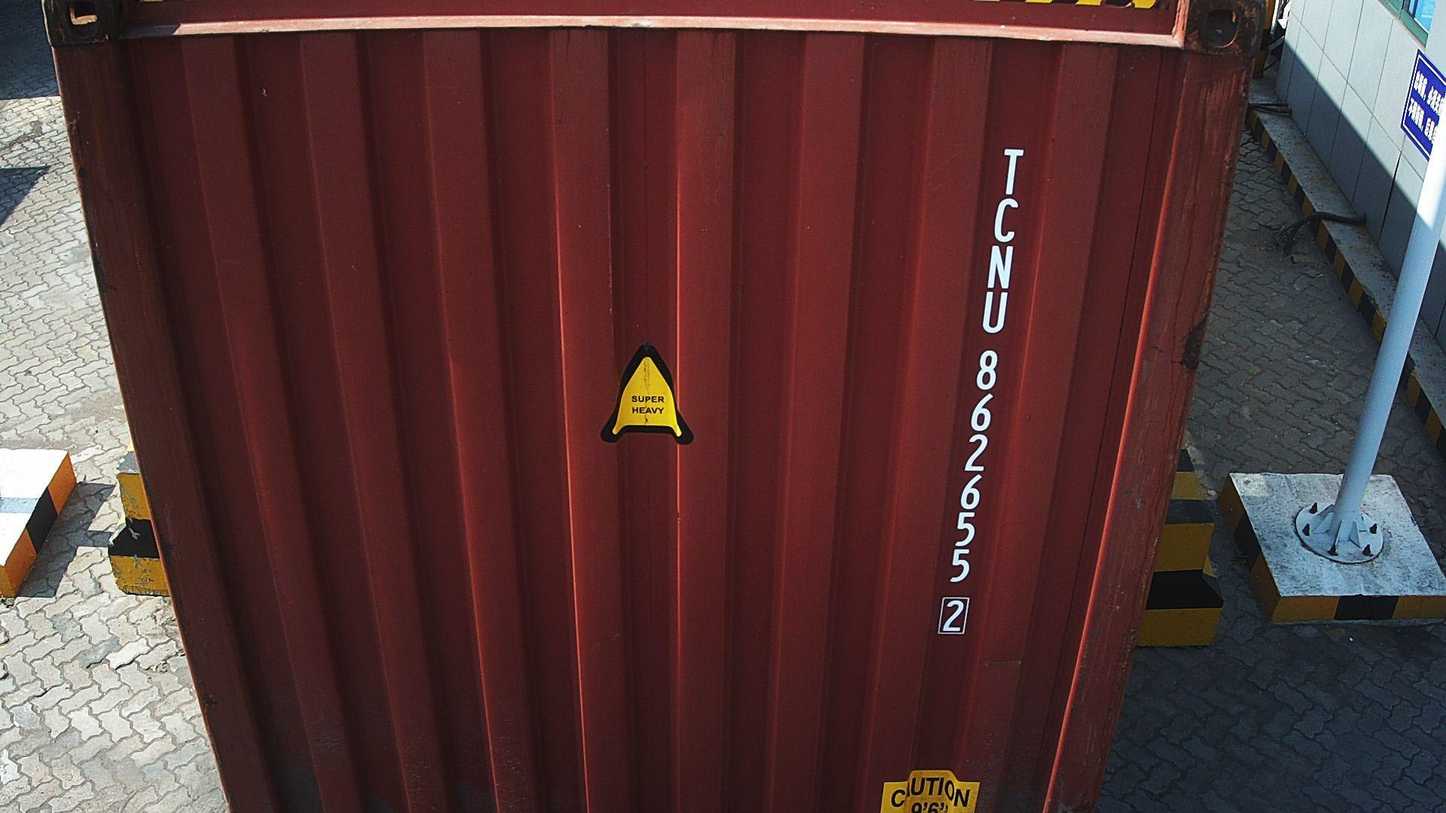container-numbers: (932, 144, 1029, 641)
